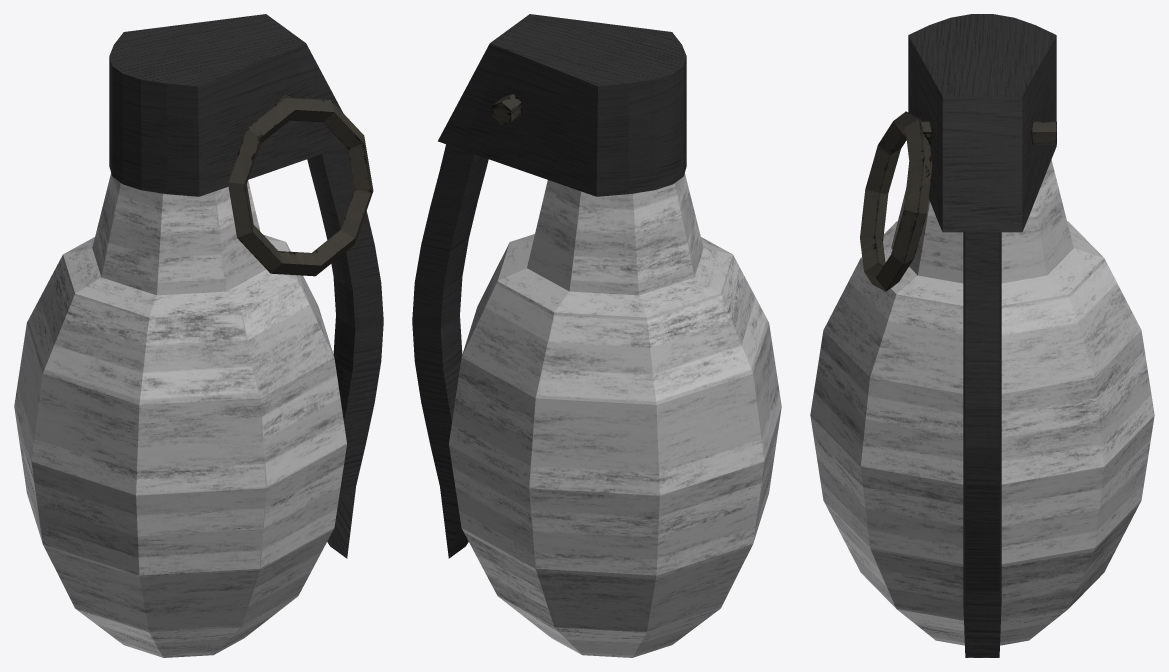
File: Combustion Grenade 1 V1.fbx
3 renders of one model, left to right at view 1: azimuth 30°, elevation 25°; view 2: azimuth 150°, elevation 25°; view 3: azimuth 270°, elevation 25°, orthographic.
Visible parts, largest first — view 1: Grenade 1 Bake; view 2: Grenade 1 Bake; view 3: Grenade 1 Bake.
Part boxes in pixels (left/top/right/bottom): Grenade 1 Bake: left=14, top=14, right=383, bottom=657; Grenade 1 Bake: left=412, top=14, right=781, bottom=657; Grenade 1 Bake: left=810, top=14, right=1154, bottom=657.
Bounding box in the file's own units: 592 × 977 × 514.
1 material, 1 textured.
